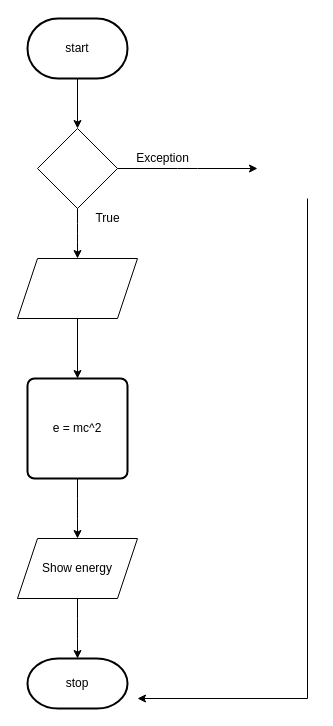
Some shapes in this 333 by 726 pixel diagram are drawn without their labels. Each missing label, with the centre of its shape:
Get mass: (77,288)
Try: (77,168)
